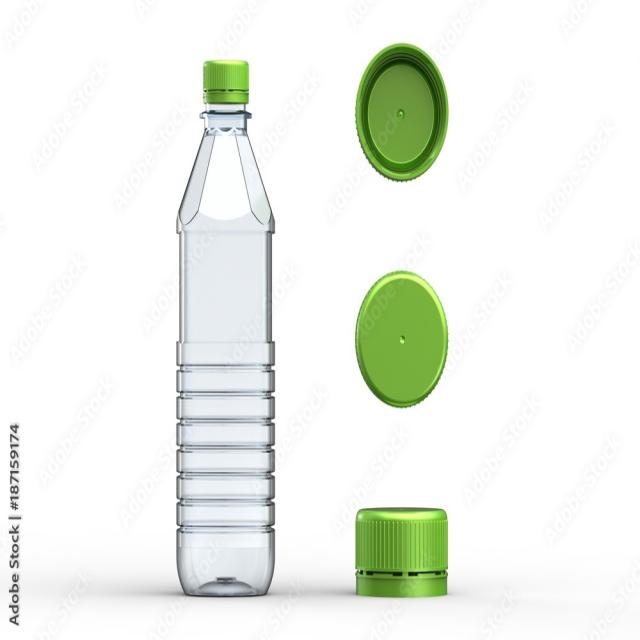bottle: (172, 59, 274, 607)
